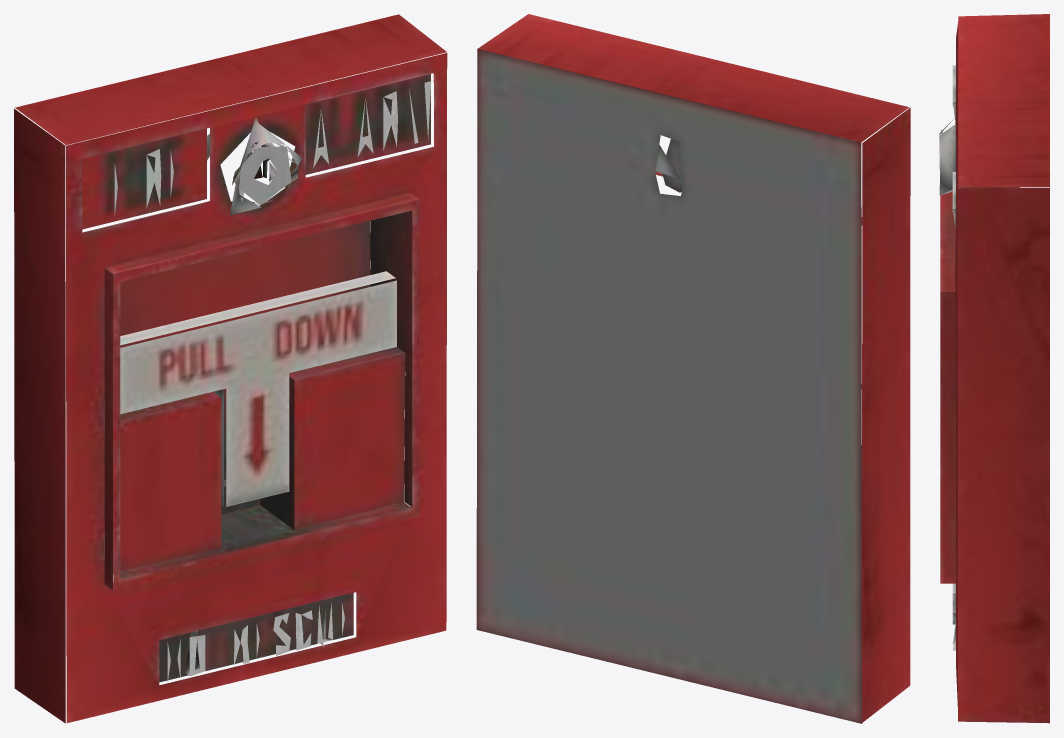
The model's file is fire_alarm.glb.
The picture shows the model from 3 angles, left to right: view 1: azimuth 30°, elevation 25°; view 2: azimuth 150°, elevation 25°; view 3: azimuth 270°, elevation 25°; orthographic projection. The views are drawn at different scales.
Visible parts, largest first — view 1: fire_alarm; view 2: fire_alarm; view 3: fire_alarm.
Part boxes in pixels (bbox=[...]): fire_alarm: bbox=[14, 14, 447, 723]; fire_alarm: bbox=[476, 14, 910, 723]; fire_alarm: bbox=[939, 14, 1049, 723].
Bounding box in the file's own units: 0.099 × 0.1427 × 0.0267.
Materials: 1 (1 with a texture image).
